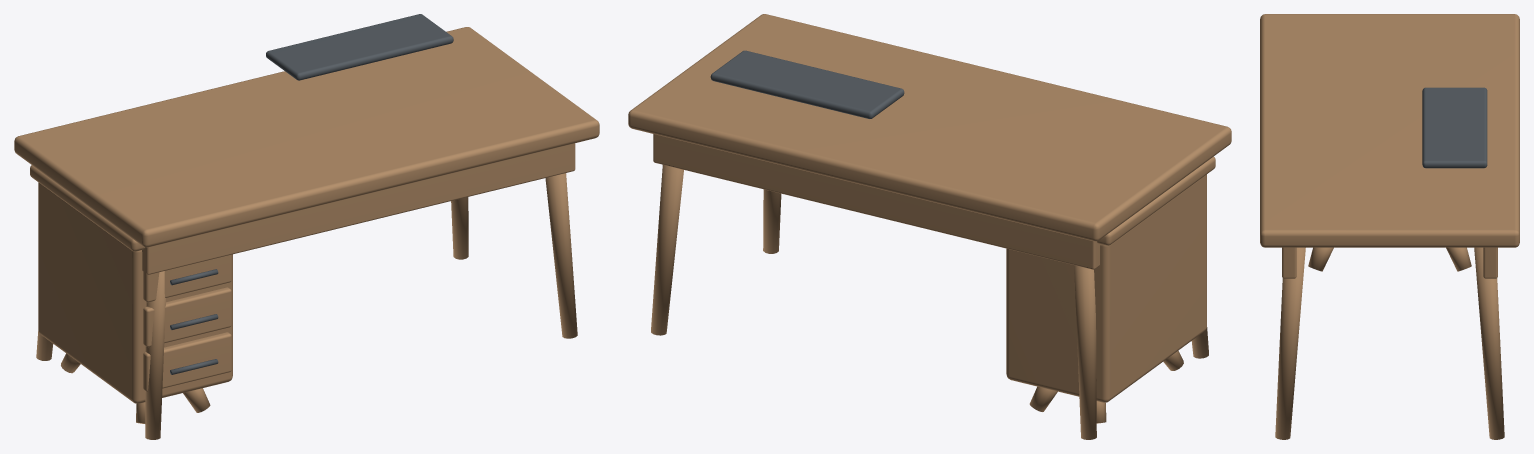
File: atelier-computer-desk.glb
3 renders of one model, left to right at view 1: azimuth 30°, elevation 25°; view 2: azimuth 150°, elevation 25°; view 3: azimuth 270°, elevation 25°, orthographic. The views are drawn at different scales.
Visible parts, largest first — view 1: legs.043, metal.013; view 2: legs.043, metal.013; view 3: legs.043, metal.013.
Boxes of the visible parts, left/top/right/bottom form: legs.043: left=14, top=27, right=599, bottom=439; metal.013: left=170, top=14, right=453, bottom=374; legs.043: left=628, top=14, right=1231, bottom=439; metal.013: left=710, top=50, right=904, bottom=118; legs.043: left=1260, top=14, right=1519, bottom=439; metal.013: left=1422, top=87, right=1487, bottom=168.
Size of the model in its own units: 1.6 by 0.8743 by 0.8.
